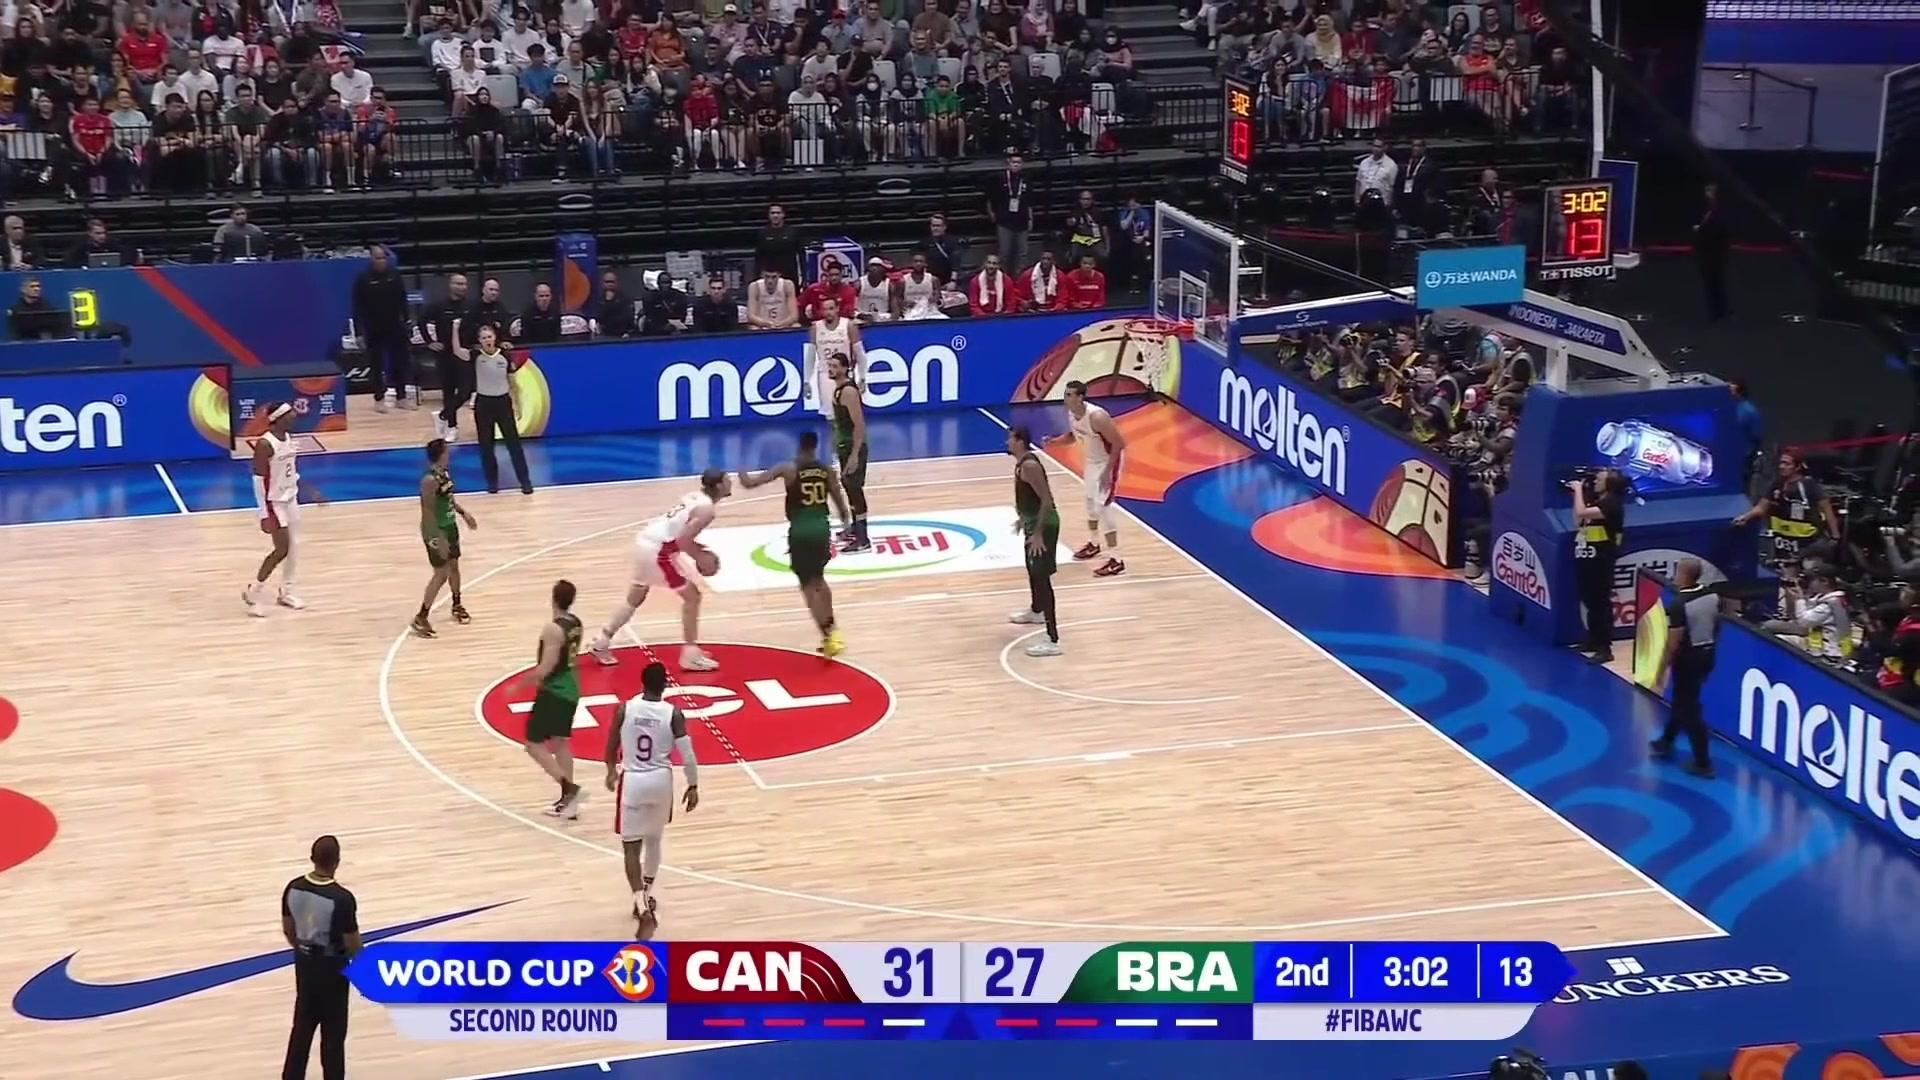no_foul: (592, 435, 880, 684)
